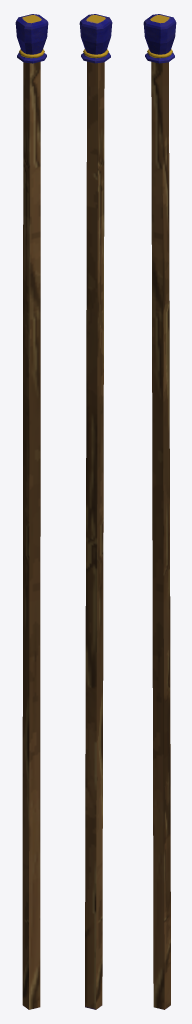
File: TinyPlattform.glb
The picture shows the model from 3 angles, left to right: view 1: azimuth 30°, elevation 25°; view 2: azimuth 150°, elevation 25°; view 3: azimuth 330°, elevation 25°; orthographic projection.
Parts seen in each view (by area): view 1: TinyPlattform-col; view 2: TinyPlattform-col; view 3: TinyPlattform-col.
Part boxes in pixels (<box>): TinyPlattform-col: <box>15,14,48,1009</box>; TinyPlattform-col: <box>79,14,112,1009</box>; TinyPlattform-col: <box>143,14,176,1009</box>.
Size of the model in its own units: 0.4023 by 15.87 by 0.4023.
1 material, 1 textured.
